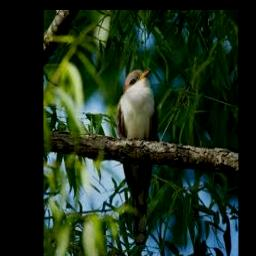Cuckoo: (117, 67, 157, 246)
